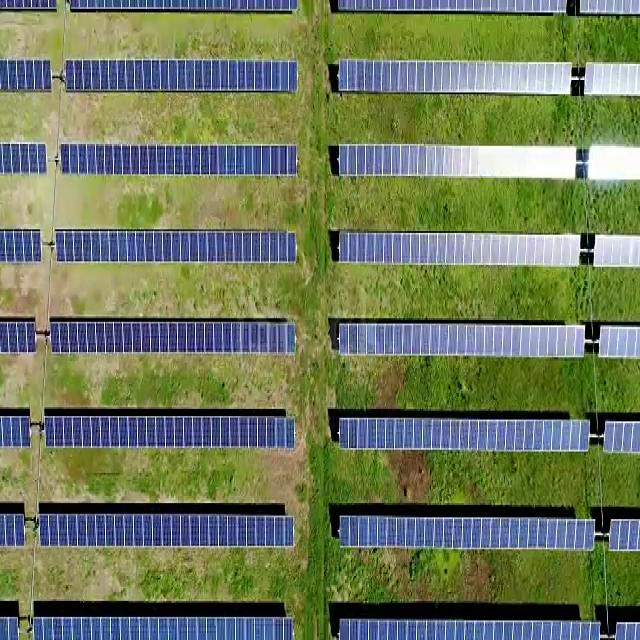Solar-panels: (42, 510, 297, 549), (54, 317, 297, 356), (341, 57, 573, 96), (47, 415, 295, 451), (343, 323, 584, 360), (58, 227, 297, 264), (342, 144, 576, 180), (340, 419, 589, 452), (339, 236, 580, 267), (65, 61, 300, 92), (340, 522, 594, 550), (63, 144, 299, 174), (36, 619, 295, 640), (340, 624, 602, 640)
